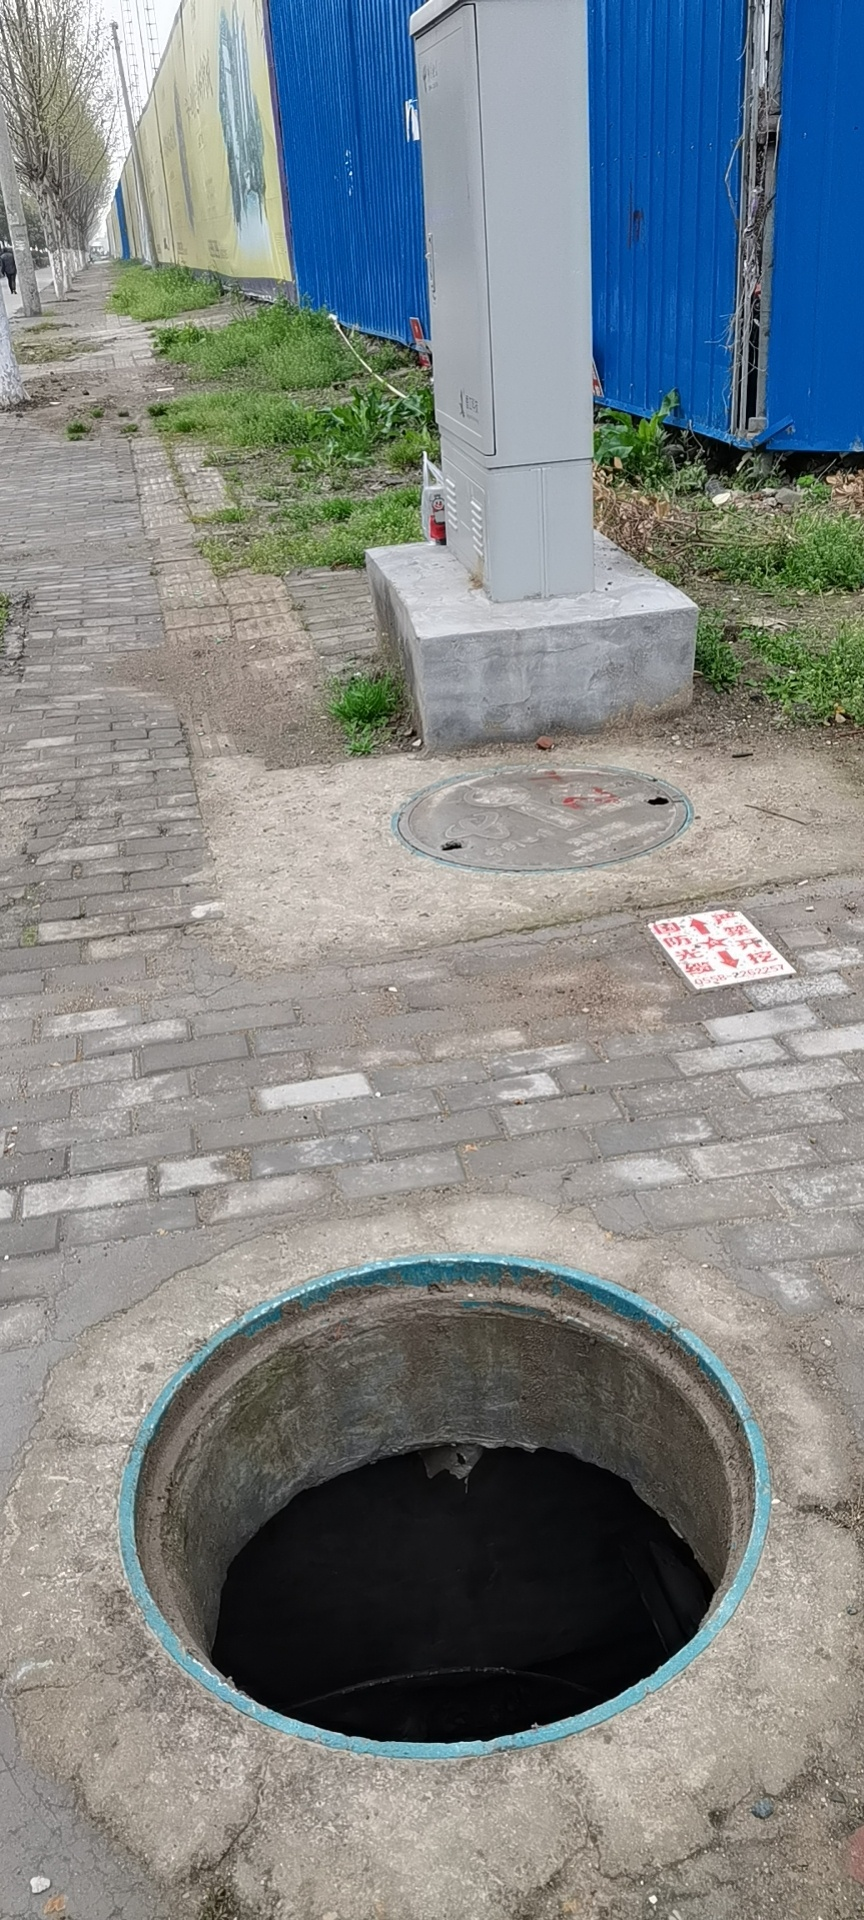lose: (116, 1249, 775, 1760)
